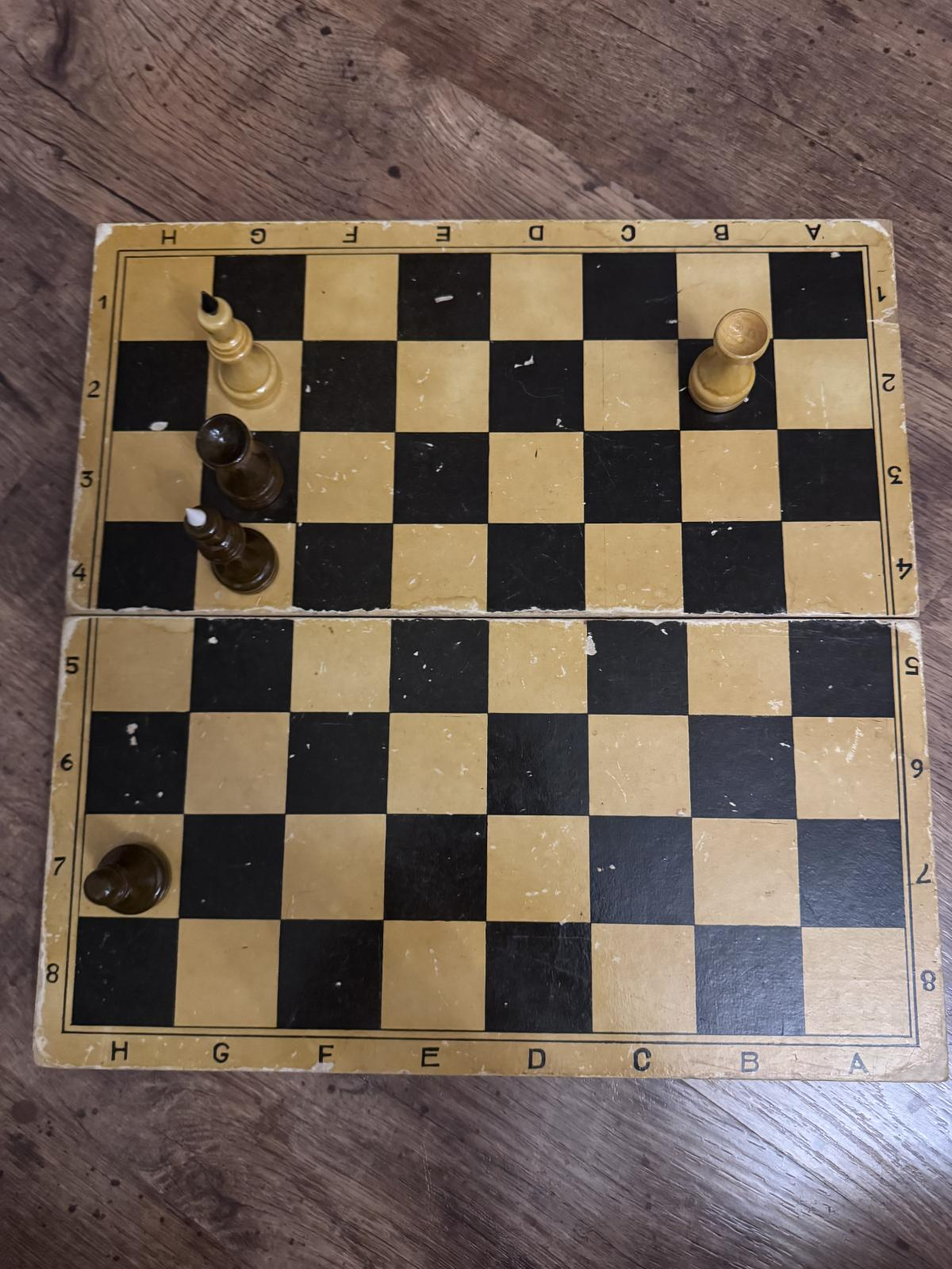Chess-Board: (70, 251, 911, 1037)
